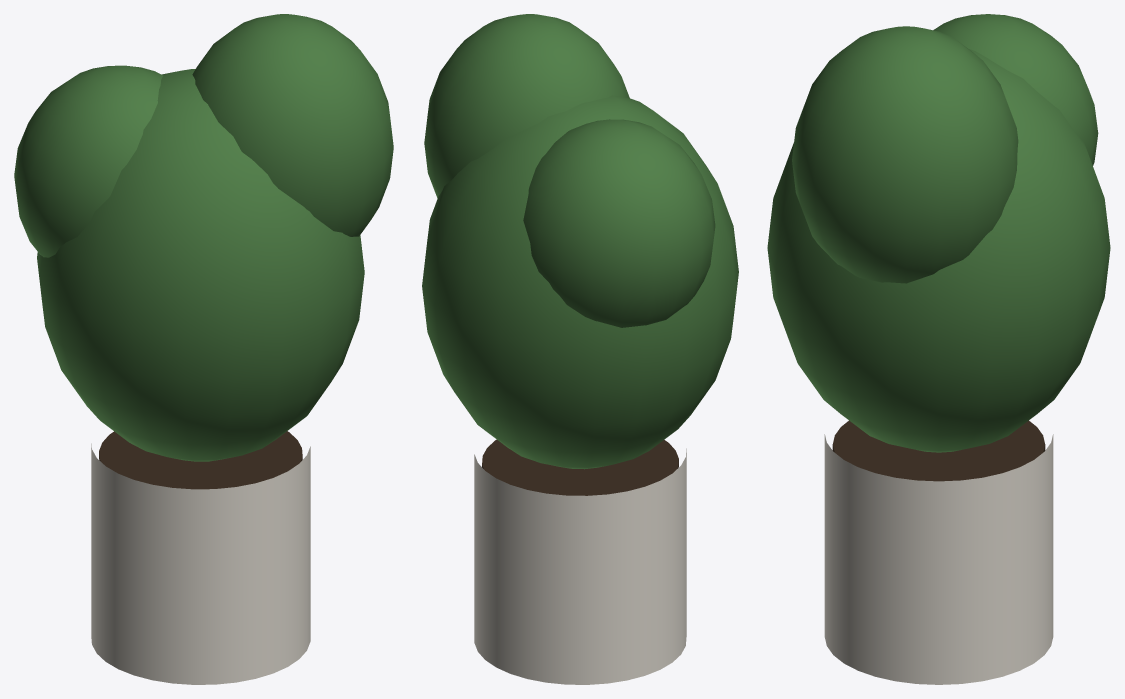
Rendered from plant.glb.
The picture shows the model from 3 angles, left to right: view 1: azimuth 30°, elevation 25°; view 2: azimuth 150°, elevation 25°; view 3: azimuth 270°, elevation 25°; orthographic projection. The views are drawn at different scales.
Visible parts, largest first — view 1: plant; view 2: plant; view 3: plant.
Part boxes in pixels (bbox=[...]): plant: bbox=[14, 14, 393, 684]; plant: bbox=[422, 14, 738, 684]; plant: bbox=[767, 14, 1110, 684].
Size of the model in its own units: 0.92 by 1.72 by 0.84.
